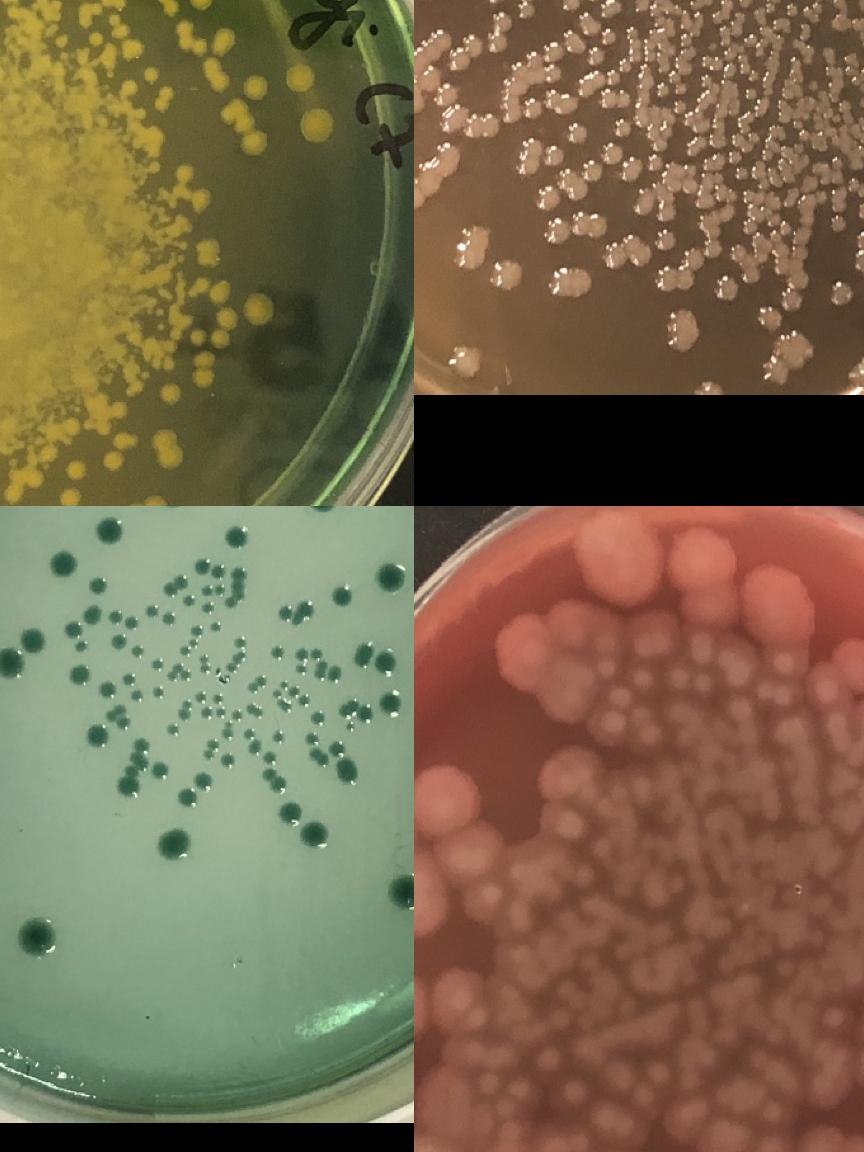pddamselae: (113, 738, 150, 800), (296, 648, 341, 684), (328, 740, 360, 786), (354, 644, 400, 676), (20, 919, 56, 955), (92, 514, 128, 550), (157, 824, 193, 860), (371, 560, 407, 596), (276, 678, 311, 708), (262, 752, 286, 795), (278, 601, 314, 627), (65, 621, 91, 656), (224, 566, 245, 609), (0, 645, 25, 681), (389, 874, 414, 910), (304, 732, 328, 769), (179, 624, 203, 660), (200, 691, 228, 721), (222, 522, 251, 550), (18, 626, 46, 654), (48, 551, 76, 579), (300, 822, 328, 850), (378, 690, 406, 718), (84, 723, 110, 751), (276, 800, 302, 826), (194, 558, 226, 579), (338, 706, 358, 734), (243, 726, 261, 755), (168, 662, 192, 683), (246, 675, 268, 695), (331, 585, 353, 605), (197, 651, 214, 675), (200, 582, 226, 597), (203, 738, 220, 760), (72, 666, 90, 684), (83, 607, 101, 625), (88, 576, 106, 594), (99, 681, 117, 699), (114, 714, 132, 732), (150, 762, 168, 780), (194, 773, 212, 791), (357, 705, 375, 723), (178, 790, 196, 806), (176, 708, 191, 722), (112, 633, 126, 647), (126, 616, 140, 630), (129, 644, 143, 658), (130, 690, 144, 704), (146, 603, 160, 617), (151, 686, 165, 700), (151, 656, 165, 670), (161, 611, 175, 625), (166, 723, 180, 737), (172, 574, 186, 588), (201, 602, 215, 616), (222, 754, 236, 768), (222, 726, 236, 740), (230, 708, 244, 722), (234, 635, 248, 649), (251, 706, 265, 720), (272, 730, 286, 744), (280, 700, 294, 714), (310, 711, 324, 725), (109, 609, 122, 623), (123, 675, 137, 688), (194, 692, 208, 705), (208, 621, 222, 634), (270, 645, 284, 658), (182, 594, 194, 607)
sinniae: (578, 115, 642, 185), (414, 140, 465, 224), (749, 286, 806, 335), (446, 30, 509, 72), (592, 58, 632, 114), (724, 130, 762, 184), (654, 69, 687, 115), (582, 27, 614, 71), (460, 111, 503, 141), (446, 344, 482, 378), (488, 260, 524, 294), (706, 272, 742, 306), (536, 215, 570, 250), (669, 262, 695, 296), (829, 276, 855, 310), (764, 212, 794, 237), (781, 2, 822, 20), (431, 82, 457, 110), (536, 185, 562, 213), (538, 142, 564, 170), (562, 120, 588, 148), (652, 224, 678, 252), (698, 235, 724, 263), (510, 0, 537, 26), (596, 0, 622, 25), (843, 177, 864, 206), (520, 98, 542, 120), (555, 0, 582, 15), (624, 0, 651, 15), (780, 187, 797, 210), (543, 62, 560, 84), (828, 215, 846, 233), (840, 49, 858, 67), (740, 32, 756, 48), (744, 69, 760, 85), (698, 53, 713, 69), (678, 32, 692, 48), (646, 156, 661, 170), (762, 2, 776, 16), (791, 141, 805, 155), (837, 100, 851, 114), (716, 26, 730, 36), (742, 88, 756, 98)
valgino: (414, 767, 502, 885), (494, 596, 594, 682), (577, 522, 656, 602), (743, 566, 813, 644), (414, 969, 484, 1040), (801, 637, 864, 710), (669, 528, 733, 592), (541, 668, 597, 722), (414, 874, 452, 938), (494, 1078, 526, 1114), (610, 686, 630, 708), (638, 724, 658, 746), (694, 673, 714, 695), (729, 698, 749, 720), (755, 677, 775, 699), (824, 1006, 844, 1028), (563, 1081, 582, 1103), (632, 1086, 650, 1108), (650, 1062, 668, 1084), (668, 666, 686, 688), (764, 1100, 782, 1122), (480, 1074, 498, 1094), (540, 1050, 558, 1070)
vharveyi: (187, 308, 237, 351), (228, 100, 266, 154), (174, 17, 211, 60), (301, 108, 333, 142), (154, 432, 180, 468), (244, 294, 272, 324), (202, 61, 229, 92), (192, 352, 214, 389), (287, 63, 315, 91), (102, 450, 126, 472), (212, 28, 235, 50), (153, 0, 181, 18), (23, 468, 45, 490), (64, 460, 86, 482), (160, 385, 182, 407), (190, 189, 212, 211), (208, 281, 230, 303), (243, 76, 265, 98), (3, 483, 24, 505), (60, 489, 82, 506), (105, 0, 127, 10), (189, 0, 211, 9)
